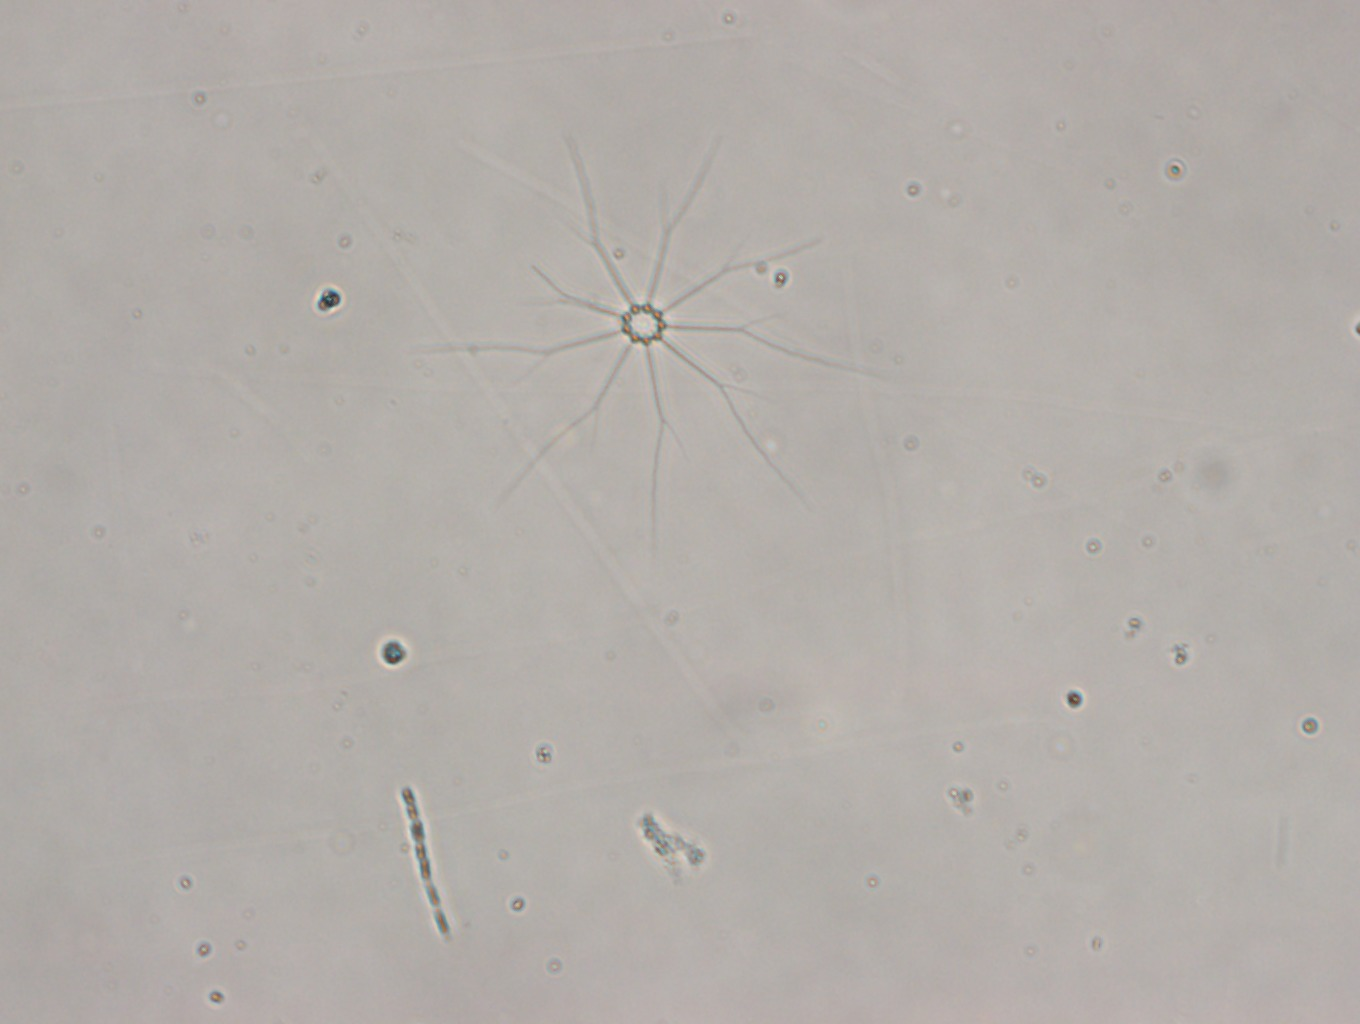bacteriastrum: (413, 128, 892, 547)
